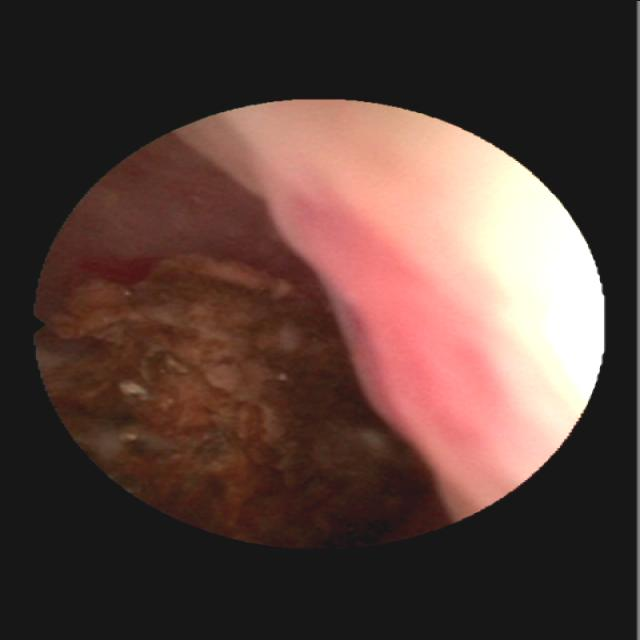stone: (41, 256, 421, 541)
tissue: (44, 108, 585, 513)
